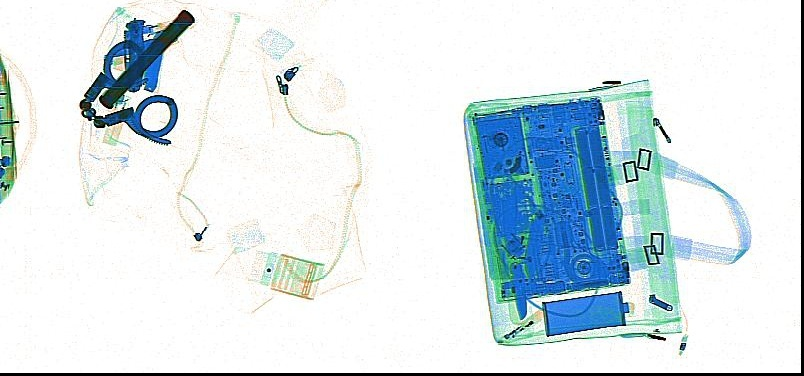handcuffs: (78, 38, 178, 145)
knife: (122, 19, 146, 92), (143, 27, 164, 92), (507, 261, 528, 325)
lighter: (100, 92, 132, 147)
zippooil: (541, 289, 630, 336)
